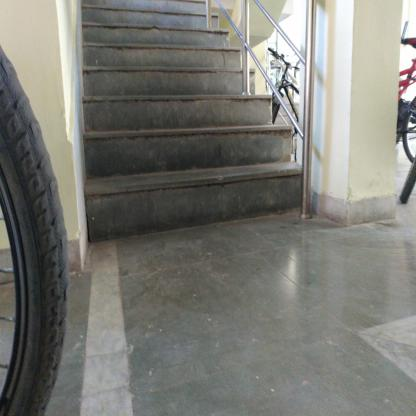stairs: (92, 7, 203, 246)
